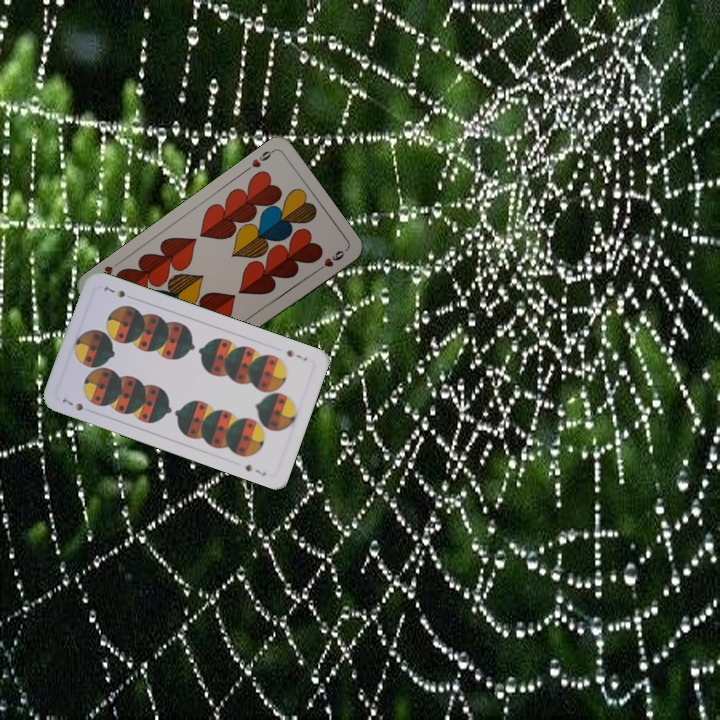H9: (247, 146, 276, 170)
S7: (58, 394, 86, 414), (283, 346, 310, 364)
